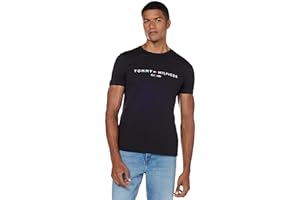design: (132, 66, 178, 80)
